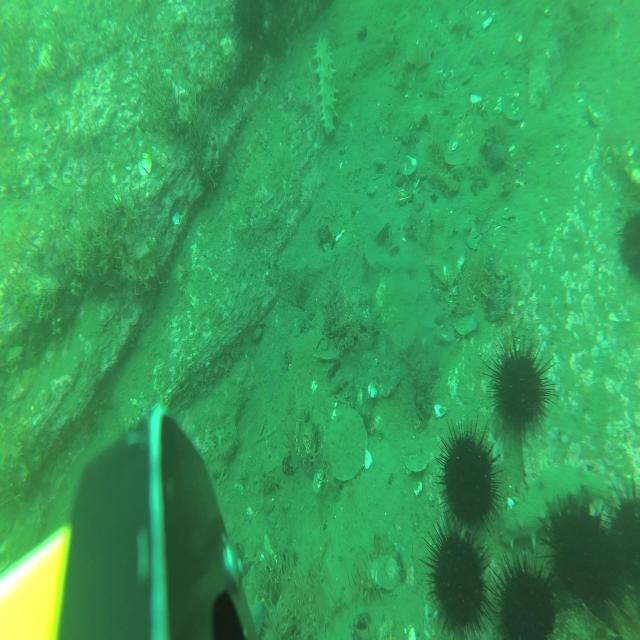echinus: (421, 509, 496, 640), (488, 328, 558, 443), (437, 416, 503, 537), (541, 492, 608, 610), (487, 548, 563, 640), (601, 481, 640, 602), (616, 203, 640, 286), (231, 0, 266, 50)
holothurian: (502, 462, 606, 549), (311, 31, 338, 138)
scallop: (329, 410, 369, 484), (371, 554, 400, 590), (406, 33, 432, 69), (404, 442, 428, 472)
